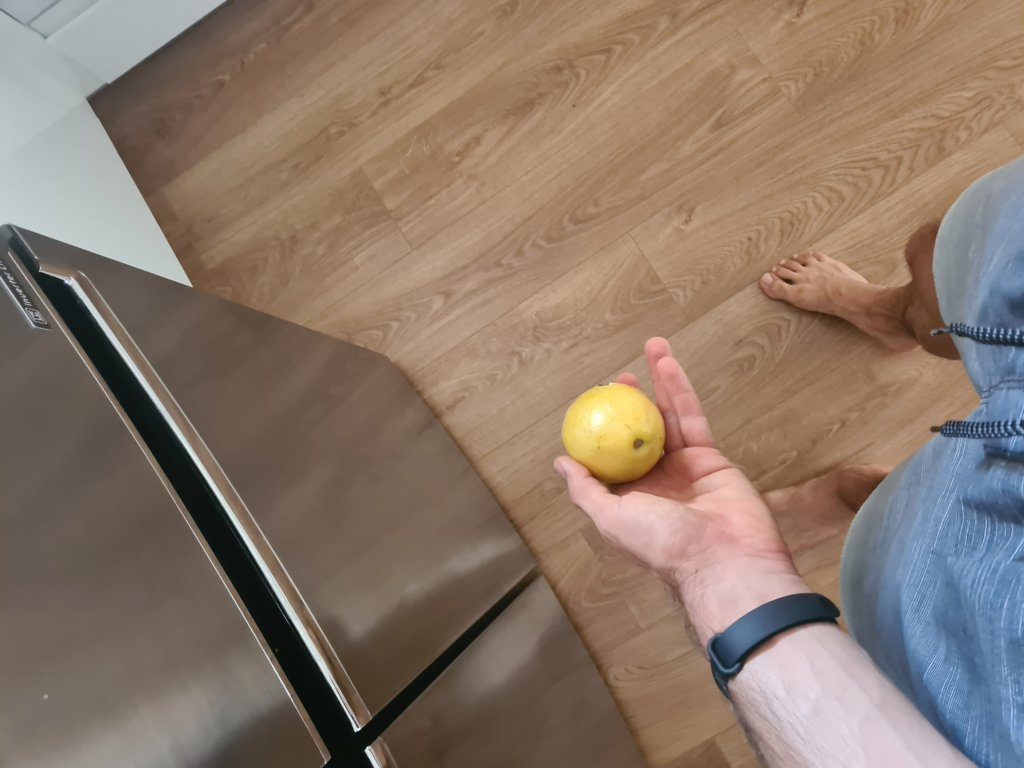lemon: (564, 383, 669, 492)
